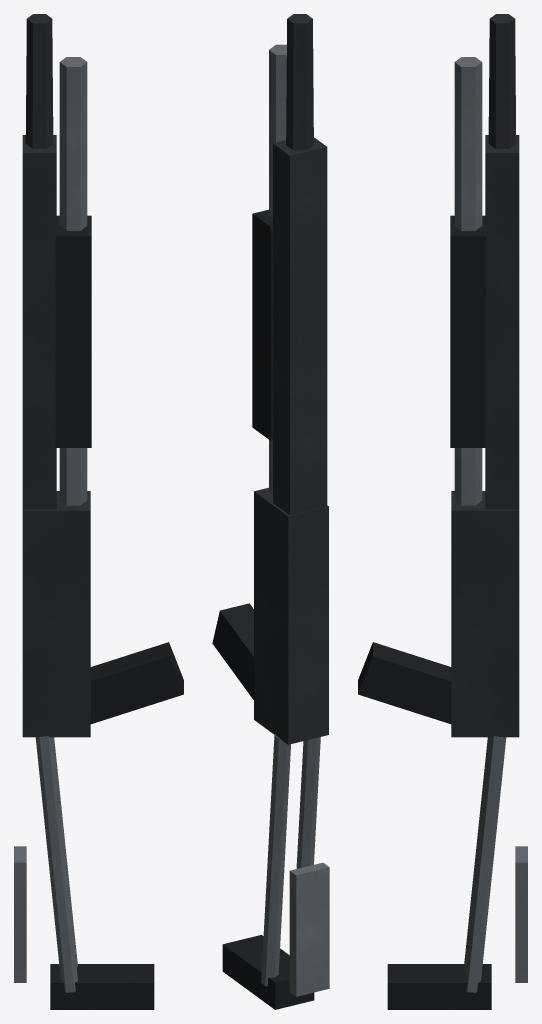
The model's file is weapon_spas12.glb.
3 renders of one model, left to right at view 1: azimuth 90°, elevation 25°; view 2: azimuth 210°, elevation 25°; view 3: azimuth 270°, elevation 25°, orthographic.
Visible parts, largest first — view 1: Weapon_SPAS12; view 2: Weapon_SPAS12; view 3: Weapon_SPAS12.
Boxes of the visible parts, <box> form: Weapon_SPAS12: <box>14,14,183,1009</box>; Weapon_SPAS12: <box>212,14,329,1009</box>; Weapon_SPAS12: <box>358,14,527,1009</box>.
Bounding box in the file's own units: 0.046 × 1.02 × 0.1598.
3 materials, 3 textured.
